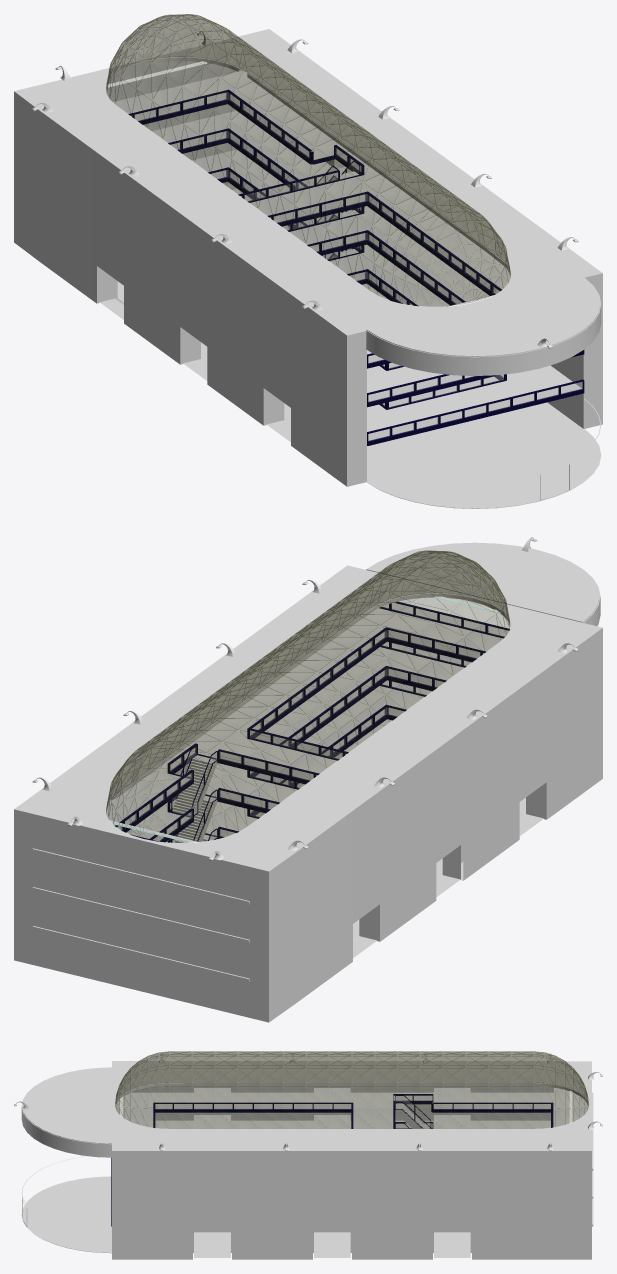
Rendered from shopping.fbx.
The picture shows the model from 3 angles, top to bottom: view 1: azimuth 30°, elevation 25°; view 2: azimuth 150°, elevation 25°; view 3: azimuth 270°, elevation 25°; orthographic projection. The views are drawn at different scales.
Parts seen in each view (by area): view 1: Cube, Capsule, Front, Flor_2, Flor_1, Flor, Cover, Cover_2, Cover_3; view 2: Cube, Capsule, Flor_2, Front, Cover, Flor_1, Flor, Cover_2, Cover_3, Cube_2, Cube_2_5; view 3: Cube, Capsule, Front, Flor_2, Cover, Flor_1, Cube_2_3, Cube_2_4, Cube_1_2.
Boxes of the visible parts, box(x1,y1,x2,y2) form: Cube: box(14, 29, 602, 486); Capsule: box(106, 14, 510, 306); Front: box(366, 277, 601, 508); Flor_2: box(113, 70, 510, 362); Flor_1: box(152, 110, 489, 401); Flor: box(192, 149, 581, 440); Cover: box(128, 89, 501, 368); Cover_2: box(168, 128, 584, 407); Cover_3: box(208, 167, 584, 445); Cube: box(14, 565, 602, 1022); Capsule: box(106, 550, 509, 842); Flor_2: box(32, 608, 502, 904); Front: box(366, 542, 600, 725); Cover: box(115, 601, 509, 841); Flor_1: box(32, 647, 464, 943); Flor: box(32, 686, 424, 982); Cover_2: box(149, 642, 471, 842); Cover_3: box(167, 680, 431, 842); Cube_2: box(171, 746, 217, 815); Cube_2_5: box(175, 795, 217, 842); Cube: box(112, 1061, 591, 1259); Capsule: box(115, 1051, 588, 1128); Front: box(21, 1067, 112, 1253); Flor_2: box(115, 1092, 593, 1170); Cover: box(111, 1094, 553, 1170); Flor_1: box(155, 1120, 593, 1198); Cube_2_3: box(395, 1102, 429, 1128); Cube_2_4: box(395, 1102, 430, 1128); Cube_1_2: box(395, 1095, 431, 1128).
Size of the model in its own units: 380 by 292 by 982.
